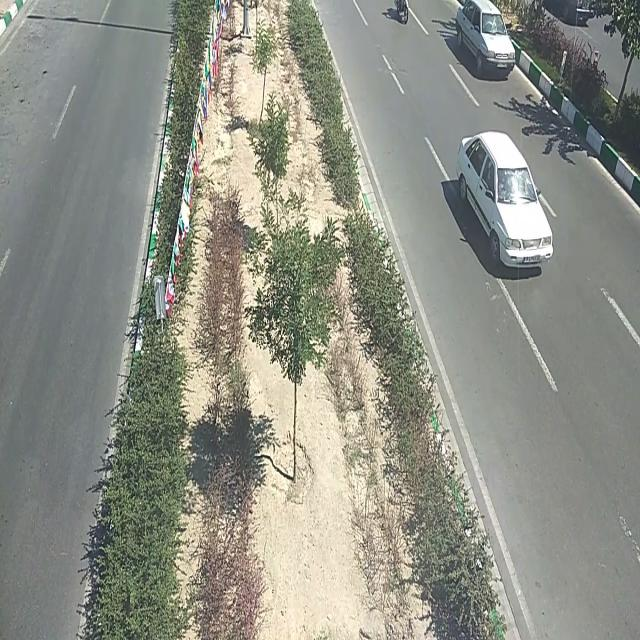car: (458, 132, 556, 263), (454, 1, 517, 74)
